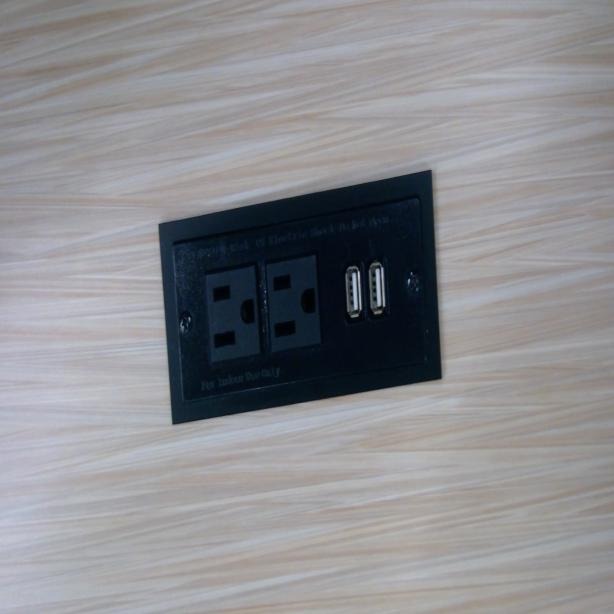typeb: (268, 259, 324, 347), (204, 265, 257, 357)
